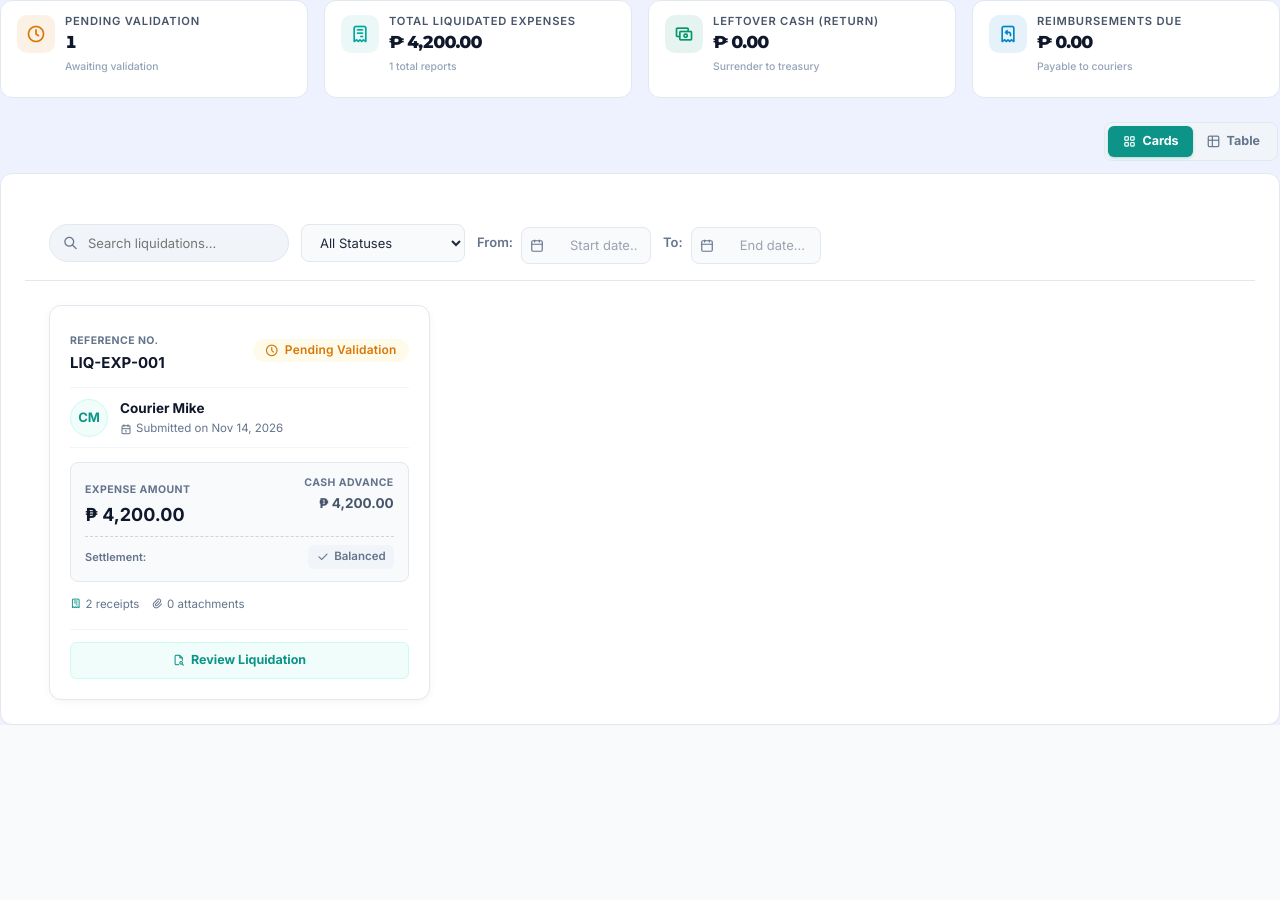
Test: EMP-001 (Finance Manager) — Complete Page-by-Page Workflow & Verification › Page 13: /liquidations (Liquidation Reports) › loads liquidations and validates report calling update endpoint
Later steps or results of the test are not shown.
Expected: the text "LIQ-EXP-001" is shown, [70,352,165,375]
Click the button "Review Liquidation" at point(239, 660), box [70,642,409,679]
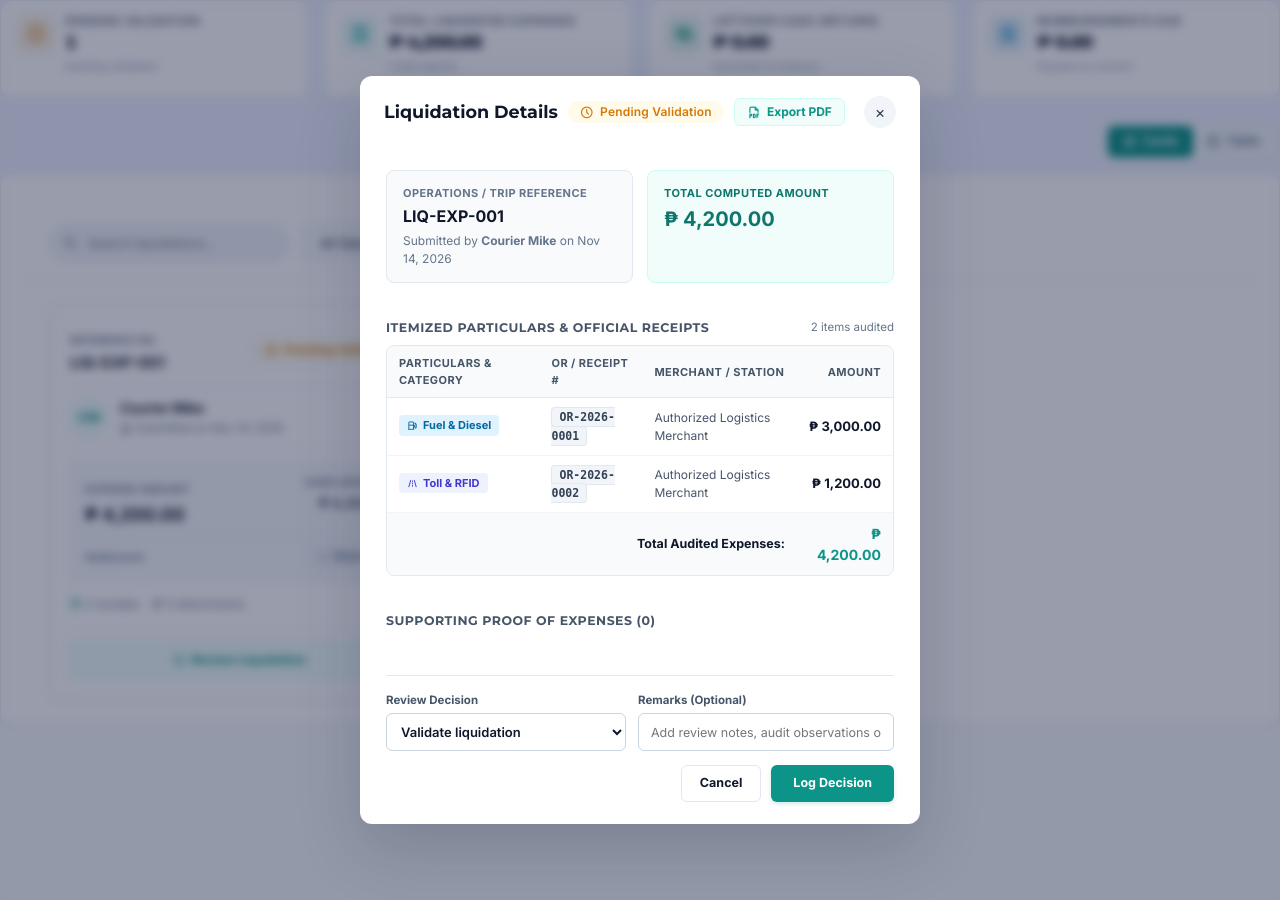
Expected: the button "Log Decision" is shown, [771,765,894,802]
